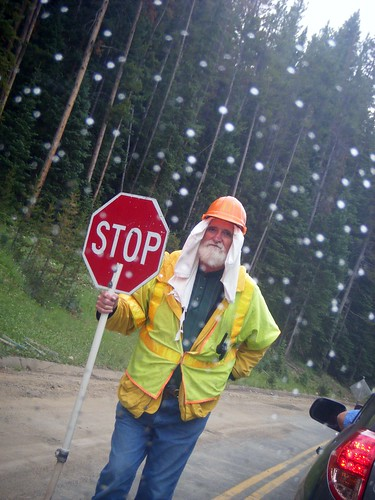person hardhat: (89, 181, 280, 500)
